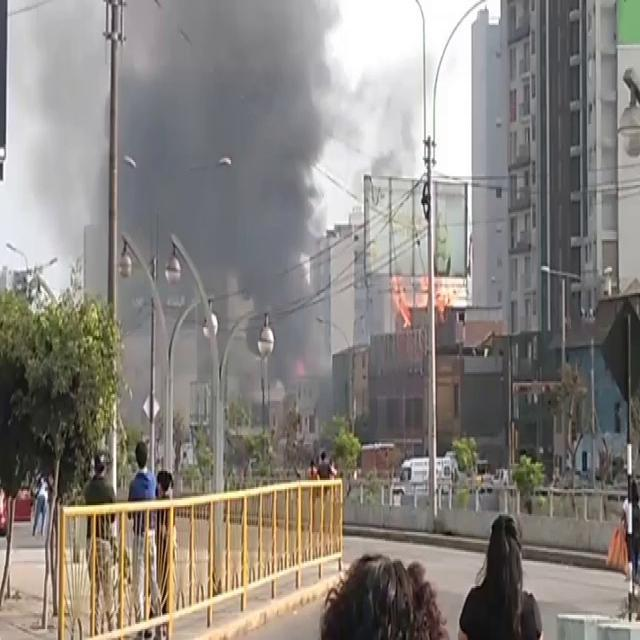Fire: (392, 268, 455, 332)
Smoke: (34, 17, 348, 364)
